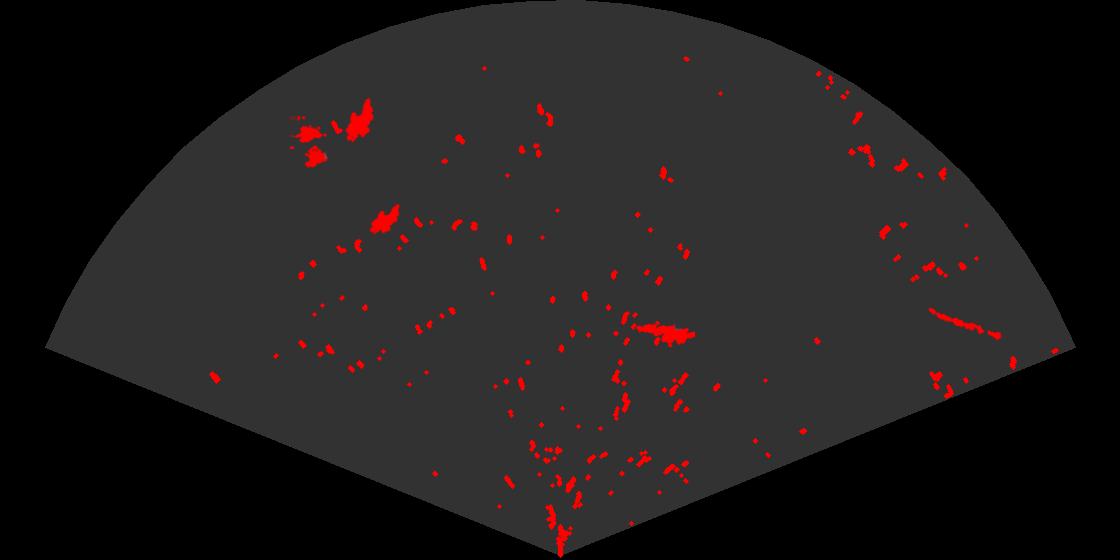AUV: (344, 96, 376, 144), (368, 202, 401, 236)
cage: (290, 116, 330, 170)
chain: (927, 306, 1004, 342)
frogman: (634, 322, 695, 349)
